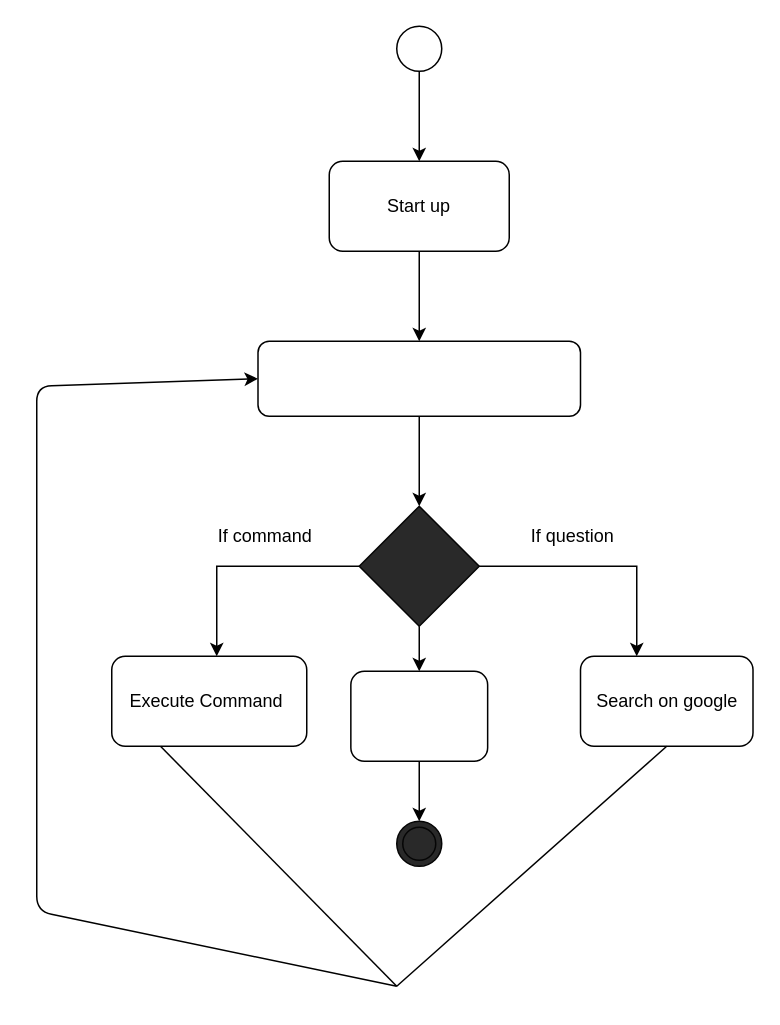
Some shapes in this 780 by 1025 pixel diagram are drawn without their labels. The shapes that lost their labels are listed below. From the top down, each one's box as (x1, y1, x2, y2) in pixels, then its label:
(256, 340, 580, 416): Wait for the command
(349, 670, 488, 761): Good Bye
